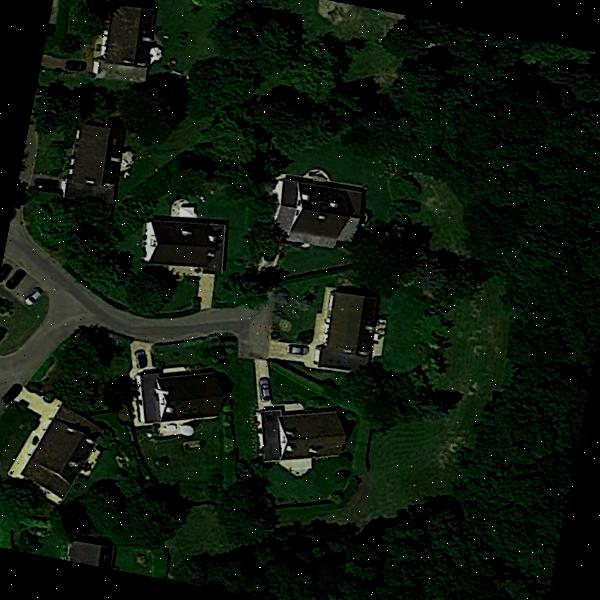Buildings: (270, 173, 368, 258), (256, 399, 357, 480), (30, 397, 102, 507), (133, 362, 237, 435), (133, 212, 231, 284), (59, 117, 128, 218), (315, 288, 388, 375), (66, 532, 130, 572)
